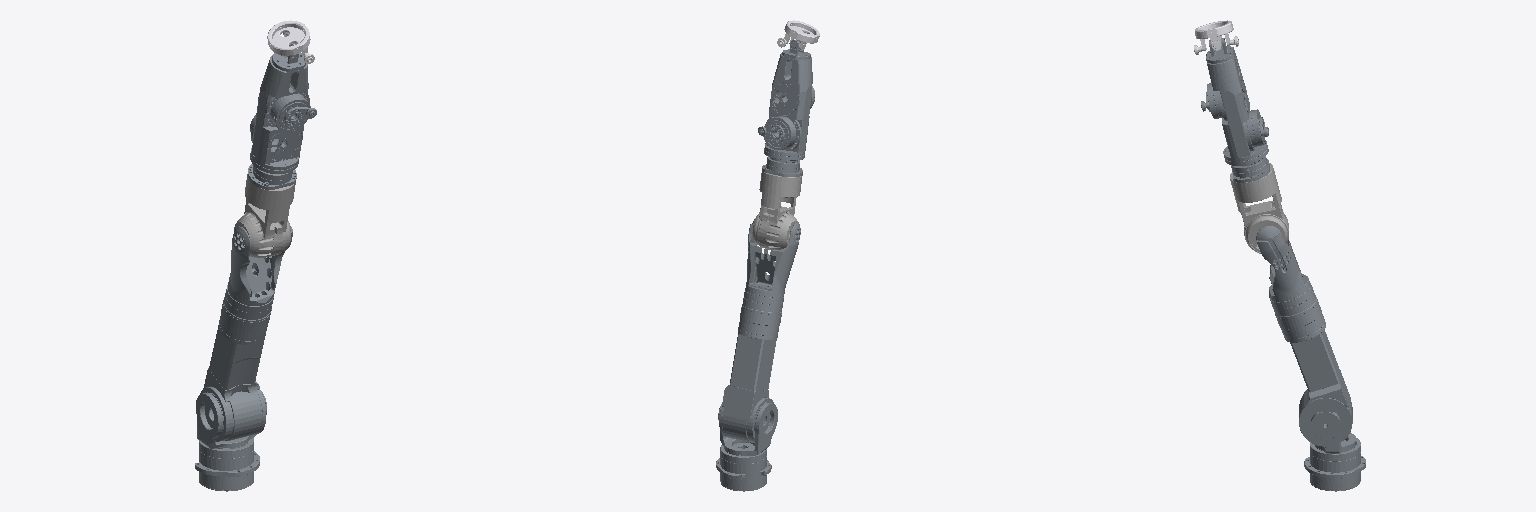
URDF robot description (T1Pro-A7-L):
<?xml version="1.0" encoding="utf-8"?>
<!-- This URDF was automatically created by SolidWorks to URDF Exporter! Originally created by [author] ([email redacted]) 
     Commit Version: 1.6.0-1-g15f4949  Build Version: 1.6.7594.29634
     For more information, please see http://wiki.ros.org/sw_urdf_exporter -->
<robot
  name="T1Pro-A7-L">
  <link
    name="base_link">
    <inertial>
      <origin
        xyz="-0.00093347987677767 0.000231426447448682 0.000282402277015465"
        rpy="0 0 0" />
      <mass
        value="0.00399395942936461" />
      <inertia
        ixx="7.70850226602783E-07"
        ixy="2.28447669781266E-09"
        ixz="-1.39924462244439E-08"
        iyy="8.38081895398985E-07"
        iyz="-5.65559870663779E-09"
        izz="1.59919170773199E-06" />
    </inertial>
    <visual>
      <origin
        xyz="0 0 0"
        rpy="0 0 0" />
      <geometry>
        <mesh
          filename="package://T1Pro-A7-L/meshes/base_link.STL" />
      </geometry>
      <material
        name="">
        <color
          rgba="0.792156862745098 0.819607843137255 0.933333333333333 1" />
      </material>
    </visual>
    <collision>
      <origin
        xyz="0 0 0"
        rpy="0 0 0" />
      <geometry>
        <mesh
          filename="package://T1Pro-A7-L/meshes/base_link.STL" />
      </geometry>
    </collision>
  </link>
  <link
    name="Link1_Link">
    <inertial>
      <origin
        xyz="-0.000252119288470309 -0.00243241362043456 0.0026873694418611"
        rpy="0 0 0" />
      <mass
        value="0.310291977156634" />
      <inertia
        ixx="0.000275828965660294"
        ixy="4.59783865698426E-07"
        ixz="2.22763661982139E-06"
        iyy="0.000327508090369342"
        iyz="-2.36501826096446E-05"
        izz="0.000207307787702761" />
    </inertial>
    <visual>
      <origin
        xyz="0 0 0"
        rpy="0 0 0" />
      <geometry>
        <mesh
          filename="package://T1Pro-A7-L/meshes/Link1_Link.STL" />
      </geometry>
      <material
        name="">
        <color
          rgba="0.568627450980392 0.596078431372549 0.623529411764706 1" />
      </material>
    </visual>
    <collision>
      <origin
        xyz="0 0 0"
        rpy="0 0 0" />
      <geometry>
        <mesh
          filename="package://T1Pro-A7-L/meshes/Link1_Link.STL" />
      </geometry>
    </collision>
  </link>
  <joint
    name="Joint1"
    type="continuous">
    <origin
      xyz="0 0 0.0518799983656614"
      rpy="3.14159265358979 0 -3.14159265358979" />
    <parent
      link="base_link" />
    <child
      link="Link1_Link" />
    <axis
      xyz="0 0 -1" />
  </joint>
  <link
    name="Link2_Link">
    <inertial>
      <origin
        xyz="0.0200454763728002 0.000771589182937854 0.000232555565279452"
        rpy="0 0 0" />
      <mass
        value="0.516204366712496" />
      <inertia
        ixx="0.000310662653479027"
        ixy="0.000159677989975968"
        ixz="-1.0517930530116E-05"
        iyy="0.000890161440791034"
        iyz="3.18376109389917E-06"
        izz="0.00096423905129916" />
    </inertial>
    <visual>
      <origin
        xyz="0 0 0"
        rpy="0 0 0" />
      <geometry>
        <mesh
          filename="package://T1Pro-A7-L/meshes/Link2_Link.STL" />
      </geometry>
      <material
        name="">
        <color
          rgba="0.568627450980392 0.596078431372549 0.623529411764706 1" />
      </material>
    </visual>
    <collision>
      <origin
        xyz="0 0 0"
        rpy="0 0 0" />
      <geometry>
        <mesh
          filename="package://T1Pro-A7-L/meshes/Link2_Link.STL" />
      </geometry>
    </collision>
  </link>
  <joint
    name="Joint2"
    type="continuous">
    <origin
      xyz="-0.000970143413927975 -0.0110000000000002 -0.0379999999999999"
      rpy="0 1.5707963267949 0" />
    <parent
      link="Link1_Link" />
    <child
      link="Link2_Link" />
    <axis
      xyz="0 0 -1" />
  </joint>
  <link
    name="Link3_Link">
    <inertial>
      <origin
        xyz="0.000729069742052387 -0.00126712101592633 -0.019092402835496"
        rpy="0 0 0" />
      <mass
        value="0.410286624371692" />
      <inertia
        ixx="0.000565117665556109"
        ixy="-4.15649213231623E-05"
        ixz="7.83009044901346E-06"
        iyy="0.000613046304712329"
        iyz="-1.33919860746722E-05"
        izz="0.000214237061483164" />
    </inertial>
    <visual>
      <origin
        xyz="0 0 0"
        rpy="0 0 0" />
      <geometry>
        <mesh
          filename="package://T1Pro-A7-L/meshes/Link3_Link.STL" />
      </geometry>
      <material
        name="">
        <color
          rgba="0.568627450980392 0.596078431372549 0.623529411764706 1" />
      </material>
    </visual>
    <collision>
      <origin
        xyz="0 0 0"
        rpy="0 0 0" />
      <geometry>
        <mesh
          filename="package://T1Pro-A7-L/meshes/Link3_Link.STL" />
      </geometry>
    </collision>
  </link>
  <joint
    name="Joint3"
    type="continuous">
    <origin
      xyz="0.156124430662511 -0.0411115898849441 0.00137014390910662"
      rpy="-1.5707963267949 0.935267996896458 1.2389190608436" />
    <parent
      link="Link2_Link" />
    <child
      link="Link3_Link" />
    <axis
      xyz="0 0 1" />
  </joint>
  <link
    name="Link4_Link">
    <inertial>
      <origin
        xyz="0.0185487904531895 -0.00186287366149751 0.00120466324727674"
        rpy="0 0 0" />
      <mass
        value="0.222372153695005" />
      <inertia
        ixx="0.000107466902914002"
        ixy="1.14277856673017E-05"
        ixz="-1.30842237173483E-06"
        iyy="0.000234681968070962"
        iyz="7.10312652854803E-07"
        izz="0.000235550865373618" />
    </inertial>
    <visual>
      <origin
        xyz="0 0 0"
        rpy="0 0 0" />
      <geometry>
        <mesh
          filename="package://T1Pro-A7-L/meshes/Link4_Link.STL" />
      </geometry>
      <material
        name="">
        <color
          rgba="0.698039215686274 0.698039215686274 0.698039215686274 1" />
      </material>
    </visual>
    <collision>
      <origin
        xyz="0 0 0"
        rpy="0 0 0" />
      <geometry>
        <mesh
          filename="package://T1Pro-A7-L/meshes/Link4_Link.STL" />
      </geometry>
    </collision>
  </link>
  <joint
    name="Joint4"
    type="continuous">
    <origin
      xyz="-0.00103923048454458 -0.000600000000002189 -0.0821"
      rpy="-0.745419476274158 1.57079631189374 -0.110657221173896" />
    <parent
      link="Link3_Link" />
    <child
      link="Link4_Link" />
    <axis
      xyz="0 0 1" />
  </joint>
  <link
    name="Link5_Link">
    <inertial>
      <origin
        xyz="0.000161474114949132 4.90225837905534E-06 -0.0572438195043213"
        rpy="0 0 0" />
      <mass
        value="0.571928102853348" />
      <inertia
        ixx="0.00126021712350382"
        ixy="-4.33731553018467E-07"
        ixz="-1.94150501357278E-06"
        iyy="0.00125902242769663"
        iyz="6.07831229123519E-05"
        izz="0.000223810239215527" />
    </inertial>
    <visual>
      <origin
        xyz="0 0 0"
        rpy="0 0 0" />
      <geometry>
        <mesh
          filename="package://T1Pro-A7-L/meshes/Link5_Link.STL" />
      </geometry>
      <material
        name="">
        <color
          rgba="0.568627450980392 0.596078431372549 0.623529411764706 1" />
      </material>
    </visual>
    <collision>
      <origin
        xyz="0 0 0"
        rpy="0 0 0" />
      <geometry>
        <mesh
          filename="package://T1Pro-A7-L/meshes/Link5_Link.STL" />
      </geometry>
    </collision>
  </link>
  <joint
    name="Joint5"
    type="continuous">
    <origin
      xyz="0.0920892355713894 -0.00870762262054131 0.00122644118367604"
      rpy="-1.85483345674634 -1.57079631189374 1.75951726128189" />
    <parent
      link="Link4_Link" />
    <child
      link="Link5_Link" />
    <axis
      xyz="0 0 -1" />
  </joint>
  <link
    name="Link6_Link">
    <inertial>
      <origin
        xyz="7.09360578721174E-07 -2.55426993445163E-09 8.64070509587478E-09"
        rpy="0 0 0" />
      <mass
        value="0.00610543755423291" />
      <inertia
        ixx="2.21213958699756E-07"
        ixy="-1.1059367670104E-17"
        ixz="1.36990107850647E-09"
        iyy="1.97024136807474E-07"
        iyz="-1.34765971457153E-19"
        izz="6.1595150473153E-08" />
    </inertial>
    <visual>
      <origin
        xyz="0 0 0"
        rpy="0 0 0" />
      <geometry>
        <mesh
          filename="package://T1Pro-A7-L/meshes/Link6_Link.STL" />
      </geometry>
      <material
        name="">
        <color
          rgba="0.615686274509804 0.643137254901961 0.674509803921569 1" />
      </material>
    </visual>
    <collision>
      <origin
        xyz="0 0 0"
        rpy="0 0 0" />
      <geometry>
        <mesh
          filename="package://T1Pro-A7-L/meshes/Link6_Link.STL" />
      </geometry>
    </collision>
  </link>
  <joint
    name="Joint6"
    type="continuous">
    <origin
      xyz="0 0 -0.15085000000211"
      rpy="-1.60339513219979 1.31334111372083 -3.13934567374073" />
    <parent
      link="Link5_Link" />
    <child
      link="Link6_Link" />
    <axis
      xyz="0 0 -1" />
  </joint>
  <link
    name="Link7_Link">
    <inertial>
      <origin
        xyz="2.12036770608215E-06 0.0122957406820937 -0.00226705563851505"
        rpy="0 0 0" />
      <mass
        value="0.0340574088084564" />
      <inertia
        ixx="6.25072003486715E-06"
        ixy="8.31908650767659E-10"
        ixz="4.68661586365165E-10"
        iyy="9.66329500196333E-06"
        iyz="-5.17641211795578E-07"
        izz="6.60152589560128E-06" />
    </inertial>
    <visual>
      <origin
        xyz="0 0 0"
        rpy="0 0 0" />
      <geometry>
        <mesh
          filename="package://T1Pro-A7-L/meshes/Link7_Link.STL" />
      </geometry>
      <material
        name="">
        <color
          rgba="0.890196078431373 0.890196078431373 0.913725490196078 1" />
      </material>
    </visual>
    <collision>
      <origin
        xyz="0 0 0"
        rpy="0 0 0" />
      <geometry>
        <mesh
          filename="package://T1Pro-A7-L/meshes/Link7_Link.STL" />
      </geometry>
    </collision>
  </link>
  <joint
    name="Joint7"
    type="continuous">
    <origin
      xyz="0 0 0"
      rpy="-2.88428701617851 -1.56853814954965 1.5707963267949" />
    <parent
      link="Link6_Link" />
    <child
      link="Link7_Link" />
    <axis
      xyz="-0.00225817532594474 -0.254475168058109 -0.967076671979008" />
  </joint>
</robot>

--- Render facts (derived) ---
Views: 3 orthographic renders of the robot side by side, from view 1: azimuth 30°, elevation 25°; view 2: azimuth 150°, elevation 25°; view 3: azimuth 270°, elevation 25°.
Model T1Pro-A7-L with 8 links and 7 joints (7 continuous), rooted at base_link, posed every joint at zero.
Links seen in each view (by area): view 1: Link5_Link, Link2_Link, Link3_Link, Link1_Link, Link4_Link, Link7_Link; view 2: Link5_Link, Link2_Link, Link3_Link, Link1_Link, Link4_Link, Link7_Link; view 3: Link5_Link, Link2_Link, Link3_Link, Link1_Link, Link4_Link, Link7_Link.
Boxes of the visible links, x1,y1,x2,y2 form: Link5_Link: (248,44,316,189); Link2_Link: (200,324,266,441); Link3_Link: (219,221,292,340); Link1_Link: (195,392,265,491); Link4_Link: (234,174,295,257); Link7_Link: (267,20,314,63); Link5_Link: (758,40,814,176); Link2_Link: (718,329,777,442); Link3_Link: (738,216,800,335); Link1_Link: (716,403,777,491); Link4_Link: (752,171,802,250); Link7_Link: (777,20,819,50); Link5_Link: (1201,38,1269,182); Link2_Link: (1284,322,1352,446); Link3_Link: (1256,226,1324,338); Link1_Link: (1304,412,1365,491); Link4_Link: (1230,163,1288,253); Link7_Link: (1194,20,1238,54).
Bounding box of the posed robot: 0.0714 × 0.1991 × 0.5839 m (x, y, z).
7 mesh visuals loaded from 8 distinct referenced files (7 binary STL); not drawn: 1 (reference not matched to a file when rendering).
